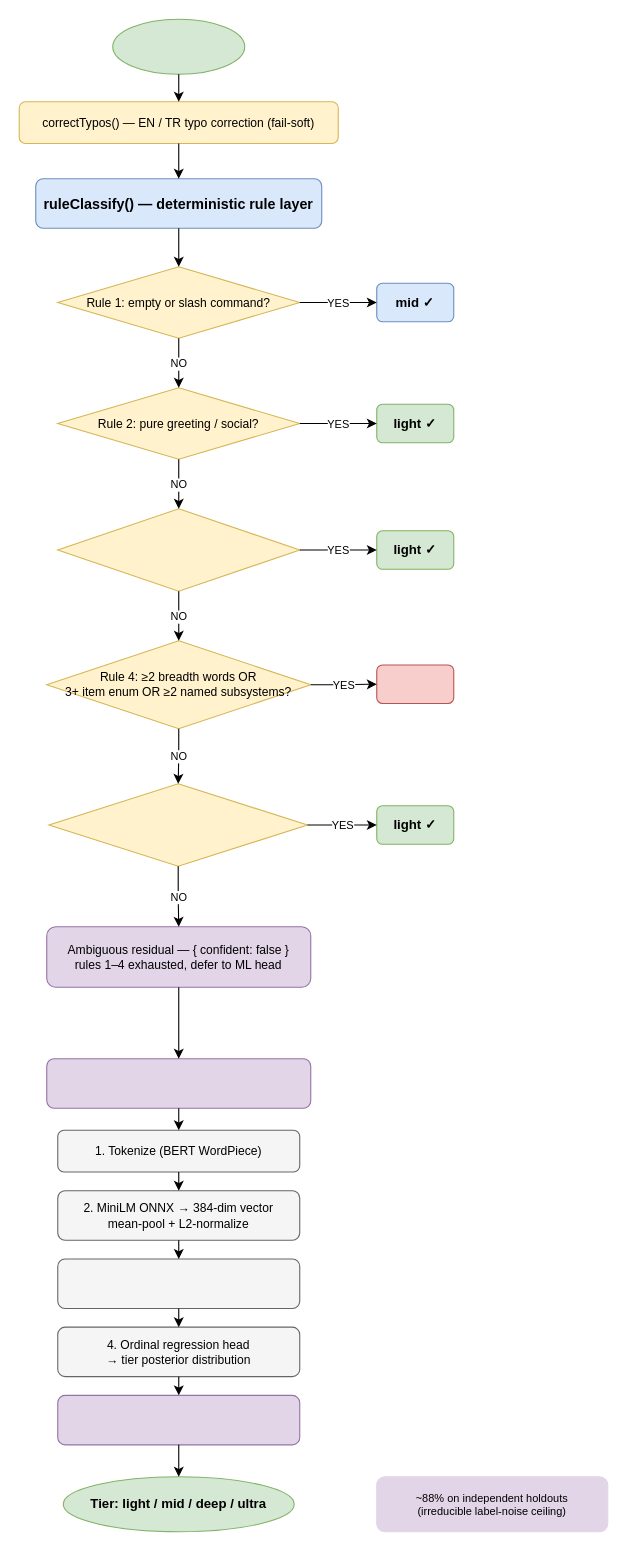
Some shapes in this 627 by 1551 pixel diagram are drawn without their labels. Each missing label, with the centre of its shape:
"3. Append lexical features (deepC, midC, scopeC, domainC)" goes at (178,1283).
"5. expectedCostDecision(policy I) minimize expected routing cost" goes at (178,1419).
"MiniLM-L6-v2 ONNX Pipeline" goes at (178,1083).
"Prompt" goes at (178,46).
"Rule 3: trivial single-edit? (null check, rename, format…)" goes at (178,549).
"Rule 3b: short recall / lookup? (≤80 chars, no deep verb, no code)" goes at (177,824).
"ultra ✓" goes at (415,683).
